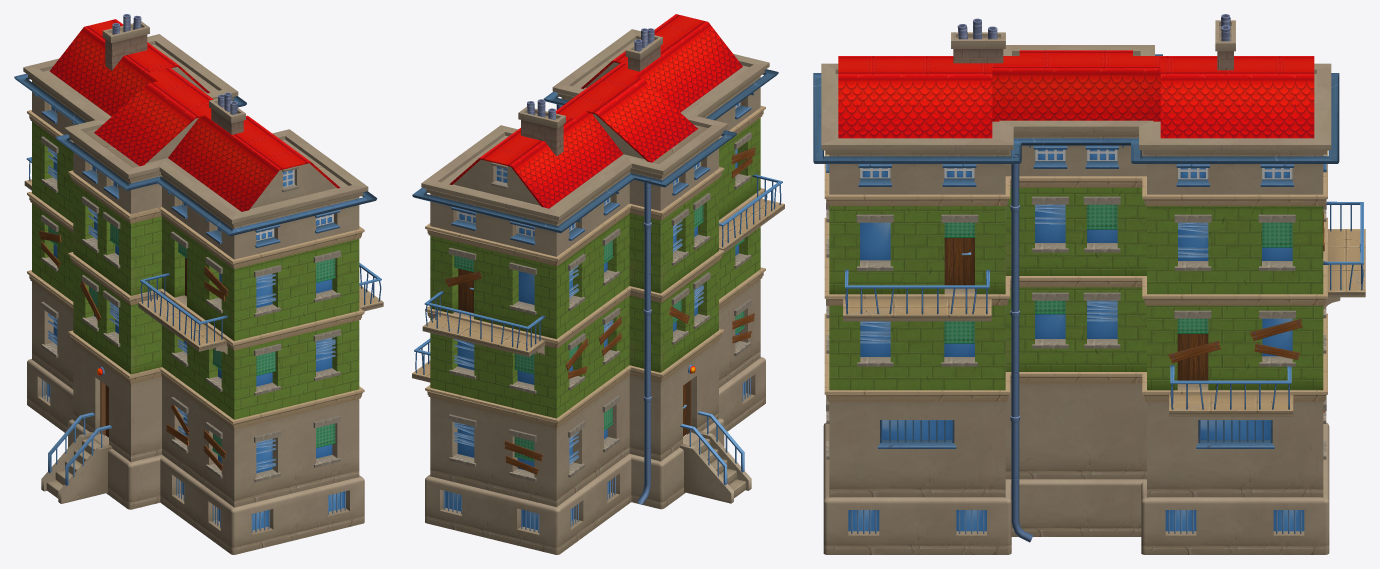
The model's file is Building_01_5.fbx.
3 views of the same model, side by side, from view 1: azimuth 30°, elevation 25°; view 2: azimuth 150°, elevation 25°; view 3: azimuth 270°, elevation 25° (orthographic). The views are drawn at different scales.
Parts seen in each view (by area): view 1: polySurface4860; view 2: polySurface4860; view 3: polySurface4860.
Part boxes in pixels (x1,y1,x2,y2): polySurface4860: (14,14,383,554); polySurface4860: (412,14,784,554); polySurface4860: (813,14,1365,554).
Size of the model in its own units: 949 by 1547 by 1565.
